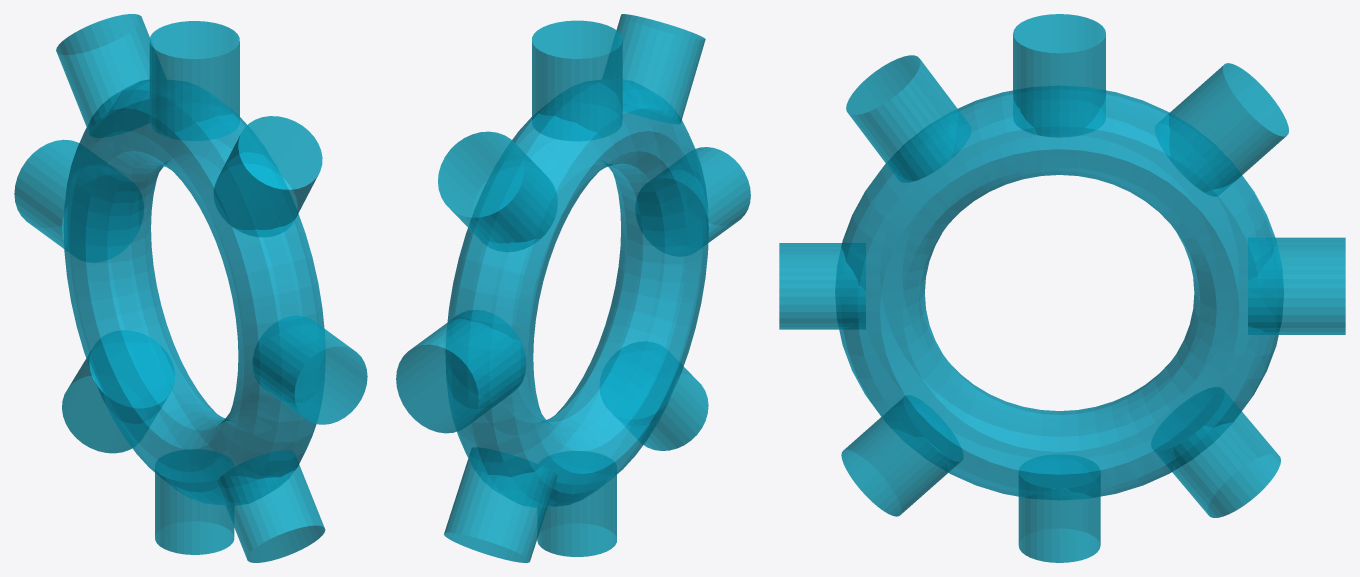
Rendered from Option.dae.
3 renders of one model, left to right at view 1: azimuth 30°, elevation 25°; view 2: azimuth 150°, elevation 25°; view 3: azimuth 270°, elevation 25°, orthographic. The views are drawn at different scales.
Visible parts, largest first — view 1: Torus, Cylinder_007, Cylinder, Cylinder_001, Cylinder_002, Cylinder_005, Cylinder_006, Cylinder_004, Cylinder_003; view 2: Torus, Cylinder_007, Cylinder_005, Cylinder, Cylinder_002, Cylinder_006, Cylinder_004, Cylinder_001, Cylinder_003; view 3: Torus, Cylinder_005, Cylinder, Cylinder_002, Cylinder_001, Cylinder_007, Cylinder_004, Cylinder_003, Cylinder_006.
Part boxes in pixels (x1,y1,x2,y2): Torus: (64,79,325,505); Cylinder_007: (14,139,138,262); Cylinder: (149,21,239,140); Cylinder_001: (213,116,322,237); Cylinder_002: (62,330,174,453); Cylinder_005: (56,14,149,137); Cylinder_006: (252,316,367,424); Cylinder_004: (217,450,325,562); Cylinder_003: (155,449,234,554); Torus: (446,79,708,506); Cylinder_007: (396,310,526,433); Cylinder_005: (438,131,557,251); Cylinder: (532,20,622,140); Cylinder_002: (444,447,557,562); Cylinder_006: (637,147,750,256); Cylinder_004: (599,341,708,450); Cylinder_001: (616,14,705,124); Cylinder_003: (537,451,616,556); Torus: (835,85,1283,500); Cylinder_005: (1155,63,1288,196); Cylinder: (1013,14,1105,137); Cylinder_002: (1151,387,1280,517); Cylinder_001: (846,55,971,182); Cylinder_007: (1248,237,1345,334); Cylinder_004: (841,395,963,516); Cylinder_003: (1018,454,1100,562); Cylinder_006: (779,243,865,329).
Bounding box in the file's own units: 0.5435 × 3.15 × 3.15.
